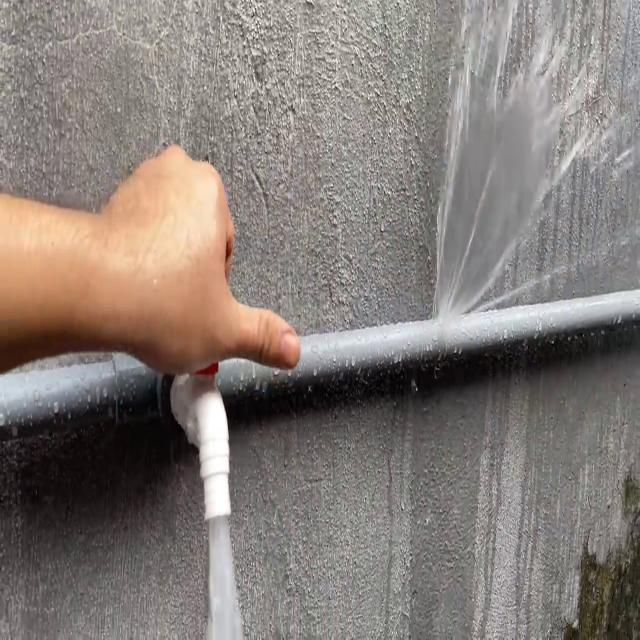leak: (430, 0, 640, 321)
